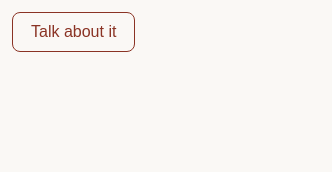
Test case: VoiceInputButton -- no app-level timers (fixes ~10s cutoff) › stays listening with no forced stop() call after any elapsed time -- only onend (the browser) changes status
The image size is (332, 172).
Click the button.
click(74, 32)  # box [12,12,135,52]
Wait 30000 ms
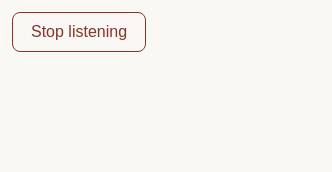
Result: the button reads "Stop listening" at [12,12,146,52]
